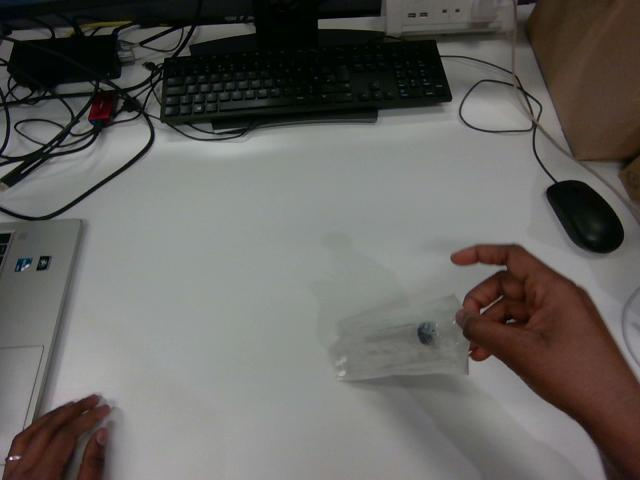syringe: (329, 295, 468, 380)
